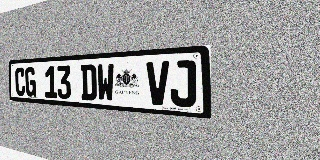1: (44, 66, 57, 98)
3: (57, 65, 71, 99)
C: (15, 67, 25, 96)
D: (81, 64, 97, 101)
G: (25, 67, 36, 97)
J: (170, 60, 196, 108)
V: (146, 61, 170, 106)
W: (97, 63, 114, 102)
